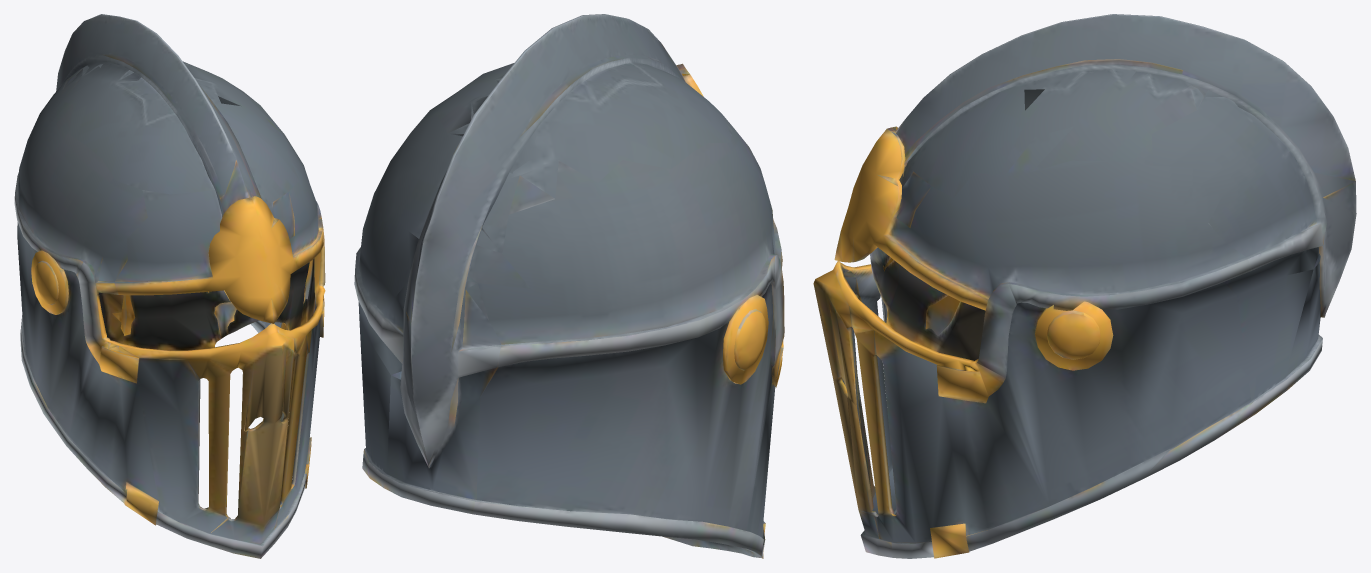
Rendered from plate_helm.glb.
The picture shows the model from 3 angles, left to right: view 1: azimuth 30°, elevation 25°; view 2: azimuth 150°, elevation 25°; view 3: azimuth 270°, elevation 25°; orthographic projection. The views are drawn at different scales.
Size of the model in its own units: 0.5864 by 0.9507 by 0.8711.
Materials: 1 (1 with a texture image).
